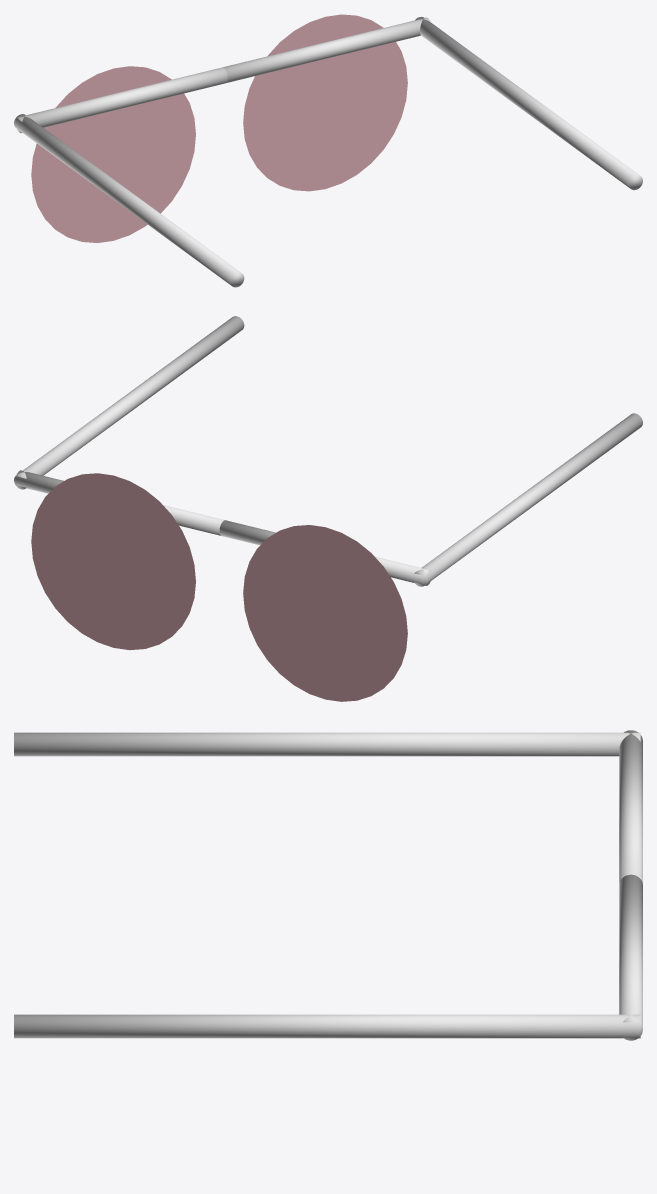
The model's file is 3d-2-rotated-fixed-3.glb.
3 views of the same model, one above another, from view 1: azimuth 30°, elevation 25°; view 2: azimuth 150°, elevation 25°; view 3: azimuth 270°, elevation 25° (orthographic). The views are drawn at different scales.
Parts seen in each view (by area): view 1: Circle; view 2: Circle; view 3: Circle.
Boxes of the visible parts, <box> form: Circle: <box>14,14,642,287</box>; Circle: <box>14,316,642,701</box>; Circle: <box>14,730,642,1040</box>.
Bounding box in the file's own units: 4.4 × 1.76 × 4.01.
